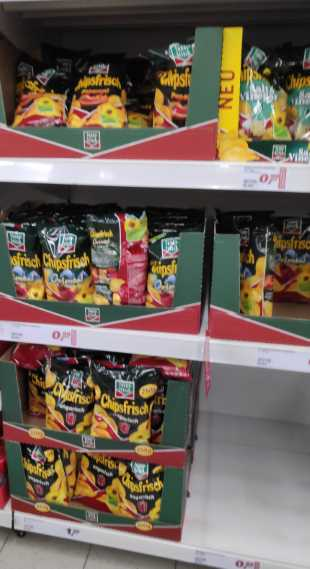chipsfrisch: (92, 360, 156, 442), (90, 214, 146, 306), (68, 56, 127, 128), (40, 222, 90, 303), (43, 360, 94, 434), (19, 443, 68, 504), (118, 462, 162, 518)
